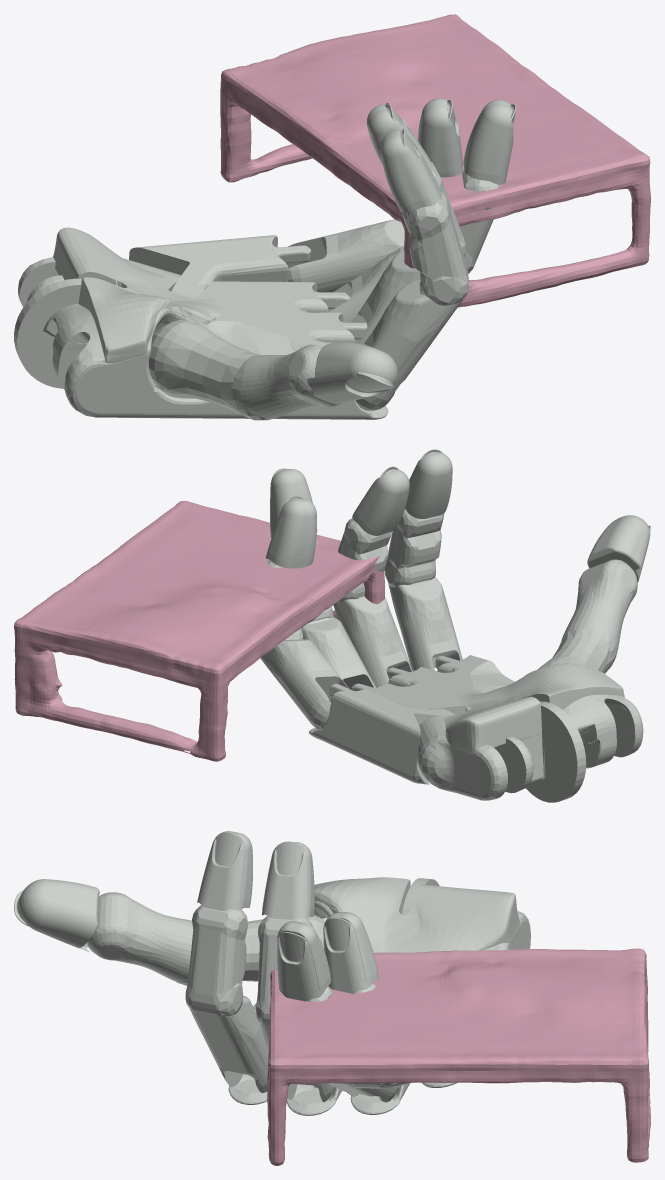
3 views of the same model, one above another, from view 1: azimuth 30°, elevation 25°; view 2: azimuth 150°, elevation 25°; view 3: azimuth 270°, elevation 25° (orthographic). The views are drawn at different scales.
Parts seen in each view (by area): view 1: hand, world; view 2: hand, world; view 3: hand, world.
Boxes of the visible parts, box(x1,y1,x2,y2) form: hand: box(14, 98, 516, 420); world: box(220, 14, 650, 307); hand: box(260, 449, 650, 802); world: box(14, 501, 384, 761); hand: box(14, 831, 530, 1115); world: box(267, 948, 650, 1165).
Size of the model in its own units: 0.2152 by 0.1053 by 0.2192.
